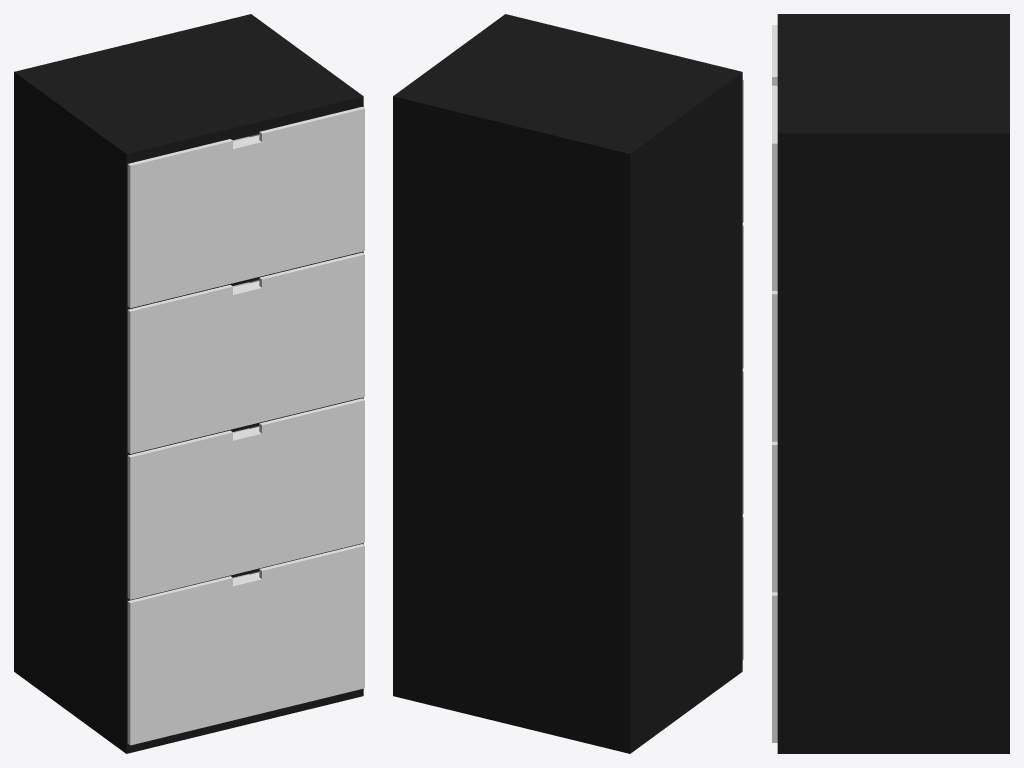
The model's file is Drawer42.fbx.
3 renders of one model, left to right at view 1: azimuth 30°, elevation 25°; view 2: azimuth 150°, elevation 25°; view 3: azimuth 270°, elevation 25°, orthographic. The views are drawn at different scales.
Visible parts, largest first — view 1: Drawer42_Body, Drawer42_2, Drawer42_1, Drawer42_4, Drawer42_3; view 2: Drawer42_Body; view 3: Drawer42_Body, Drawer42_1, Drawer42_3, Drawer42_2, Drawer42_4.
Boxes of the visible parts, bbox=[...] form: Drawer42_Body: bbox=[14, 14, 363, 753]; Drawer42_2: bbox=[127, 252, 364, 453]; Drawer42_1: bbox=[127, 107, 364, 308]; Drawer42_4: bbox=[127, 544, 364, 745]; Drawer42_3: bbox=[127, 398, 364, 599]; Drawer42_Body: bbox=[393, 14, 742, 753]; Drawer42_Body: bbox=[777, 14, 1009, 753]; Drawer42_1: bbox=[772, 25, 777, 290]; Drawer42_3: bbox=[772, 441, 777, 592]; Drawer42_2: bbox=[772, 291, 777, 441]; Drawer42_4: bbox=[772, 592, 777, 742].
Size of the model in its own units: 36.35 by 87.88 by 30.53.
